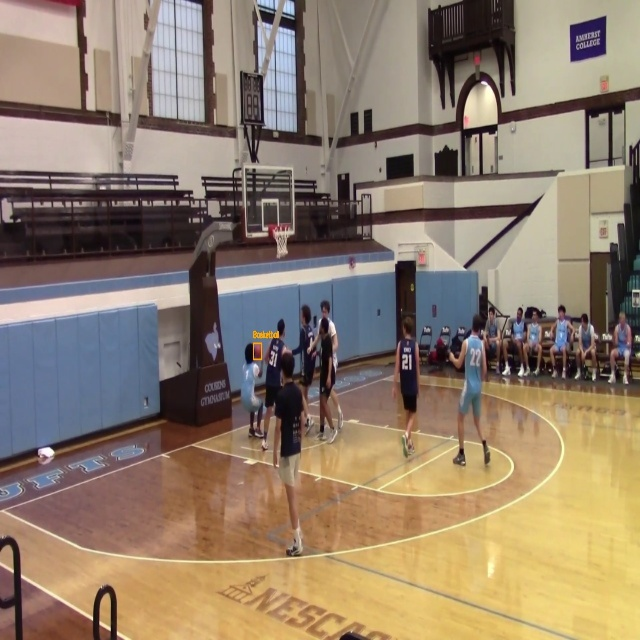Basketball: (253, 344, 262, 359)
